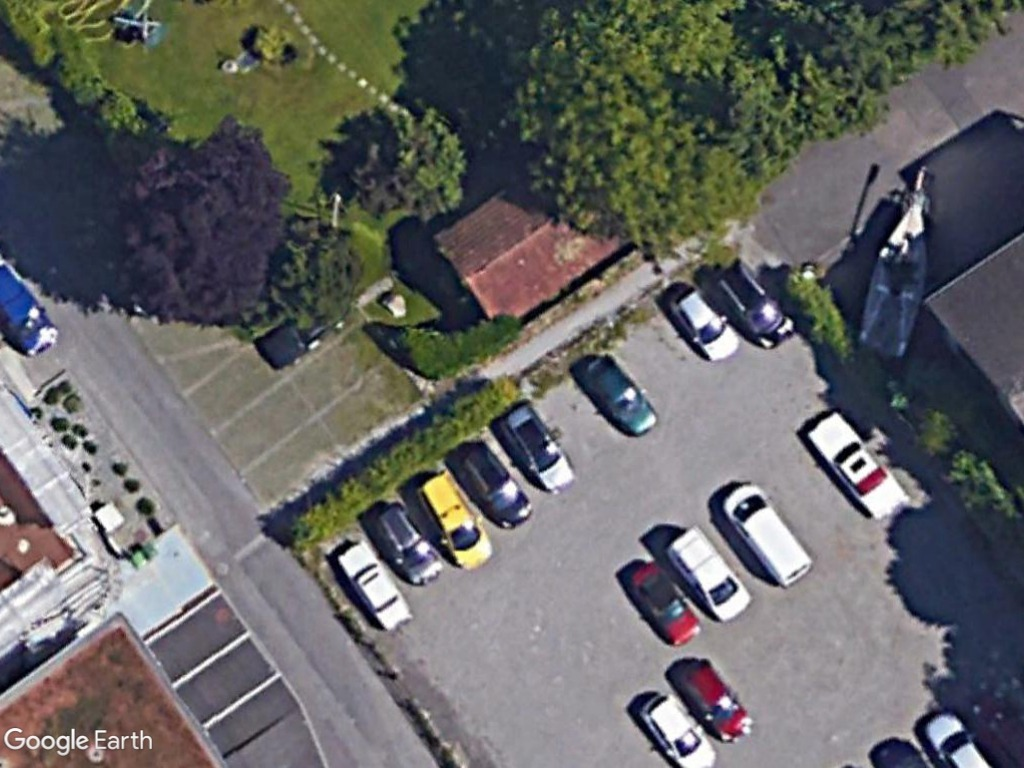boat: (855, 195, 932, 360)
car: (801, 408, 913, 523), (417, 469, 496, 573), (335, 534, 414, 634), (503, 399, 577, 495), (458, 440, 535, 532), (580, 352, 661, 439), (626, 562, 702, 648), (680, 658, 754, 745), (375, 500, 447, 588), (636, 691, 718, 768), (663, 287, 742, 365)
van: (722, 478, 813, 589), (668, 524, 754, 626)
